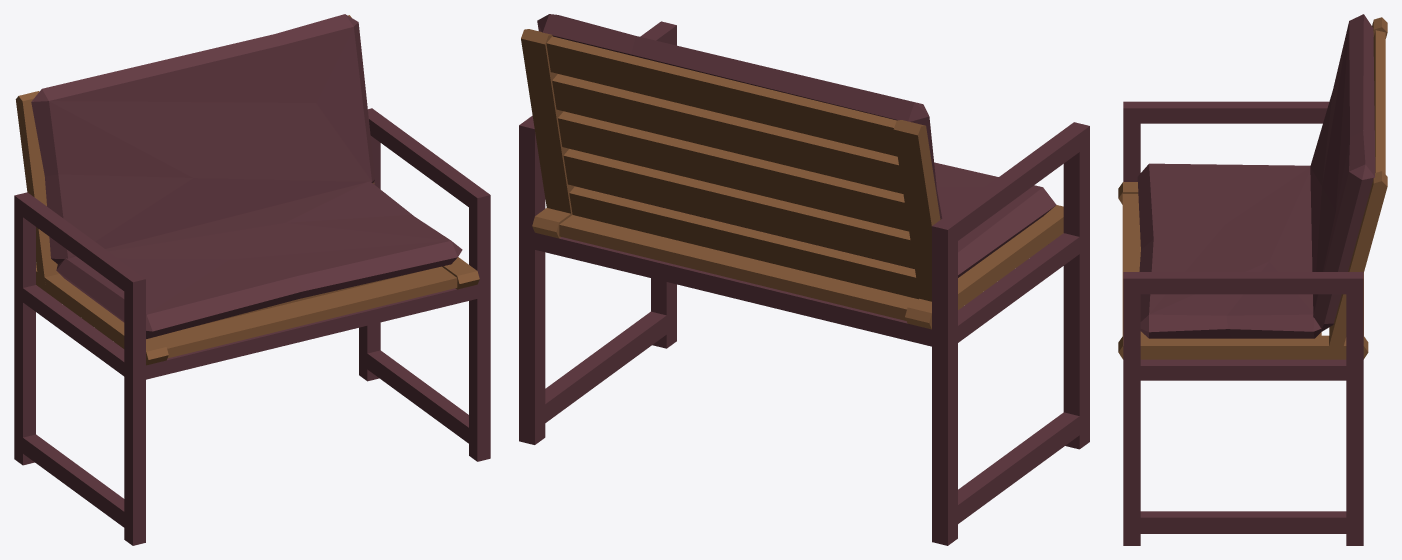
Rendered from chair-outside-modern-wide-cusion.fbx.
3 views of the same model, side by side, from view 1: azimuth 30°, elevation 25°; view 2: azimuth 150°, elevation 25°; view 3: azimuth 270°, elevation 25° (orthographic). The views are drawn at different scales.
Parts seen in each view (by area): view 1: chair-outside-modern-wide-cusion; view 2: chair-outside-modern-wide-cusion; view 3: chair-outside-modern-wide-cusion.
Part boxes in pixels (x1,y1,x2,y2): chair-outside-modern-wide-cusion: (14,14,490,545); chair-outside-modern-wide-cusion: (519,14,1089,545); chair-outside-modern-wide-cusion: (1118,14,1387,545).
Size of the model in its own units: 1.08 by 1.05 by 0.6939.
